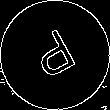P_SE: (26, 24, 84, 86)
